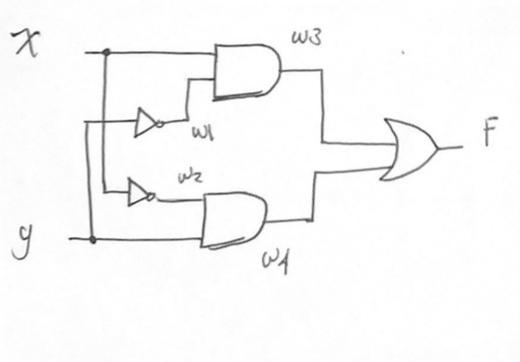AND: (205, 38, 291, 107), (196, 186, 272, 251)
NOT: (120, 171, 165, 217), (129, 102, 174, 144)
OR: (373, 106, 446, 190)
